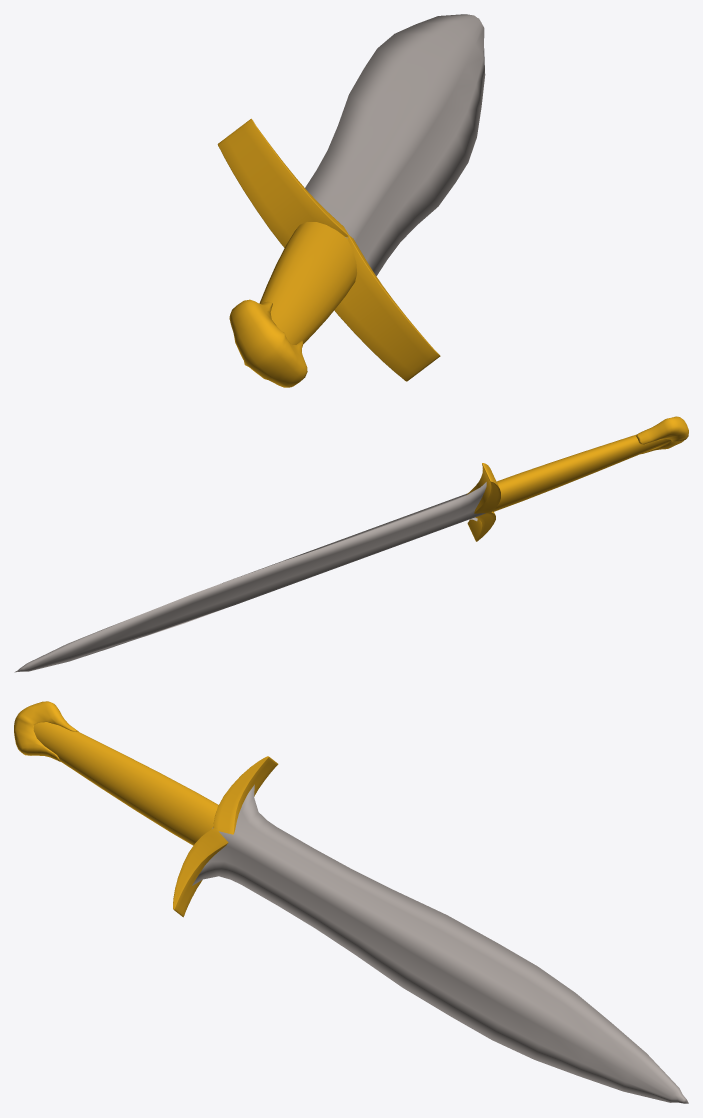
Rendered from sword.glb.
3 views of the same model, one above another, from view 1: azimuth 30°, elevation 25°; view 2: azimuth 150°, elevation 25°; view 3: azimuth 270°, elevation 25° (orthographic). The views are drawn at different scales.
Parts seen in each view (by area): view 1: Lame_Plane, Garde_Plane.002, Manche_Circle, Pommeau_Plane.001; view 2: Lame_Plane, Manche_Circle, Garde_Plane.002, Pommeau_Plane.001; view 3: Lame_Plane, Manche_Circle, Garde_Plane.002, Pommeau_Plane.001.
Boxes of the visible parts, x1,y1,x2,y2 form: Lame_Plane: [305, 14, 485, 275]; Garde_Plane.002: [217, 118, 440, 381]; Manche_Circle: [259, 222, 356, 344]; Pommeau_Plane.001: [229, 299, 307, 387]; Lame_Plane: [14, 482, 486, 672]; Manche_Circle: [492, 434, 671, 511]; Garde_Plane.002: [466, 463, 500, 541]; Pommeau_Plane.001: [636, 416, 688, 454]; Lame_Plane: [192, 784, 688, 1103]; Manche_Circle: [33, 722, 218, 845]; Garde_Plane.002: [173, 756, 278, 917]; Pommeau_Plane.001: [14, 701, 78, 761].
Size of the model in its own units: 3.48 by 1.28 by 4.33.
